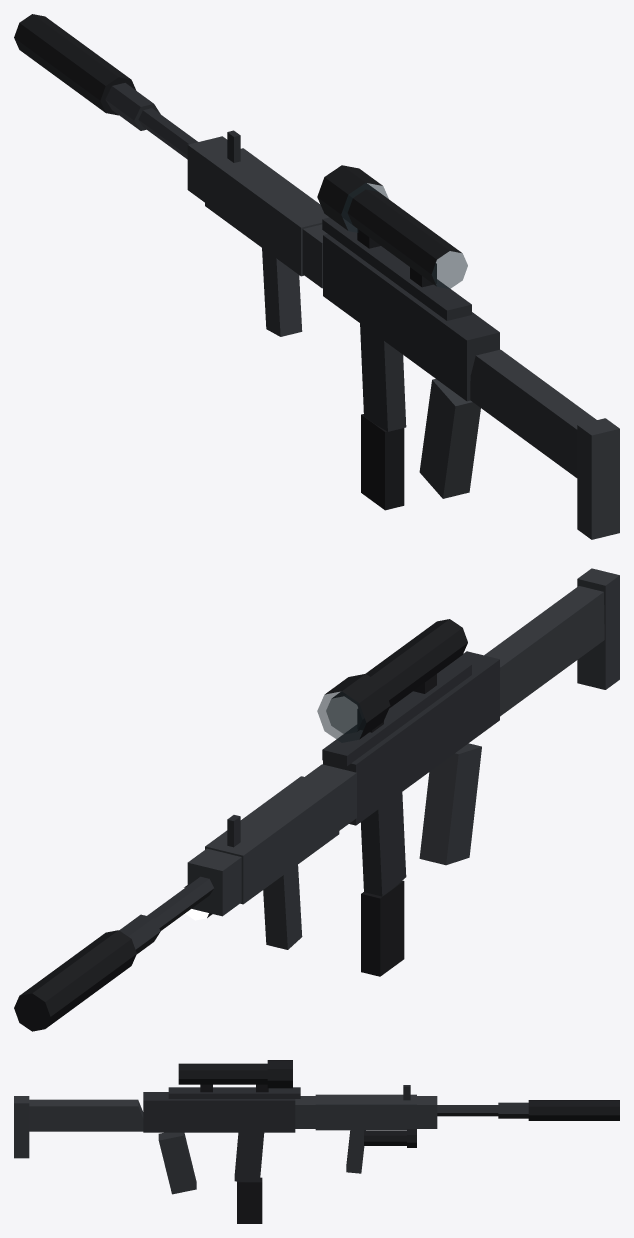
The model's file is w_carbine.glb.
The picture shows the model from 3 angles, top to bottom: view 1: azimuth 30°, elevation 25°; view 2: azimuth 150°, elevation 25°; view 3: azimuth 270°, elevation 25°; orthographic projection. The views are drawn at different scales.
Parts seen in each view (by area): view 1: w_carbine, w_carbine_att_scope, w_carbine_att_suppressor, w_carbine_att_extmag, w_carbine_att_grip; view 2: w_carbine, w_carbine_att_scope, w_carbine_att_suppressor, w_carbine_att_extmag, w_carbine_att_grip; view 3: w_carbine, w_carbine_att_scope, w_carbine_att_suppressor, w_carbine_att_extmag, w_carbine_att_flashlight, w_carbine_att_grip.
Boxes of the visible parts, box(x1,y1,x2,y2) form: w_carbine: box(105, 83, 619, 539); w_carbine_att_scope: box(317, 165, 467, 288); w_carbine_att_suppressor: box(14, 14, 136, 115); w_carbine_att_extmag: box(361, 414, 404, 510); w_carbine_att_grip: box(262, 248, 302, 336); w_carbine: box(119, 568, 619, 954); w_carbine_att_scope: box(317, 619, 467, 742); w_carbine_att_suppressor: box(14, 930, 136, 1031); w_carbine_att_extmag: box(361, 880, 404, 976); w_carbine_att_grip: box(263, 865, 302, 949); w_carbine: box(14, 1085, 528, 1194); w_carbine_att_scope: box(178, 1060, 292, 1092); w_carbine_att_suppressor: box(528, 1100, 619, 1120); w_carbine_att_extmag: box(237, 1177, 262, 1223); w_carbine_att_flashlight: box(364, 1129, 416, 1147); w_carbine_att_grip: box(346, 1130, 365, 1173).
Size of the model in its own units: 0.0847 by 0.3497 by 1.19.
